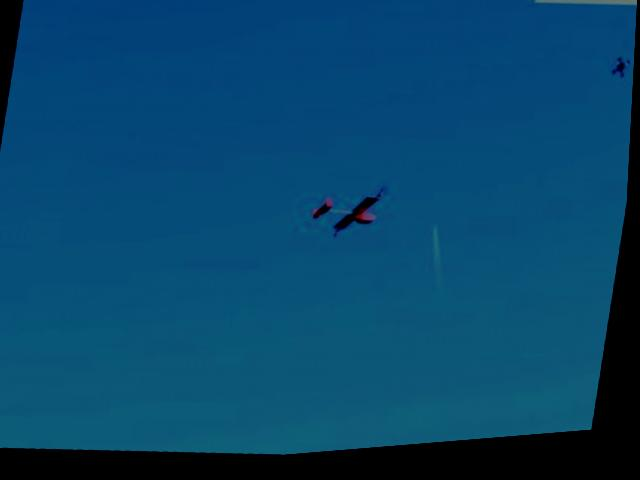uav: (299, 176, 404, 260)
